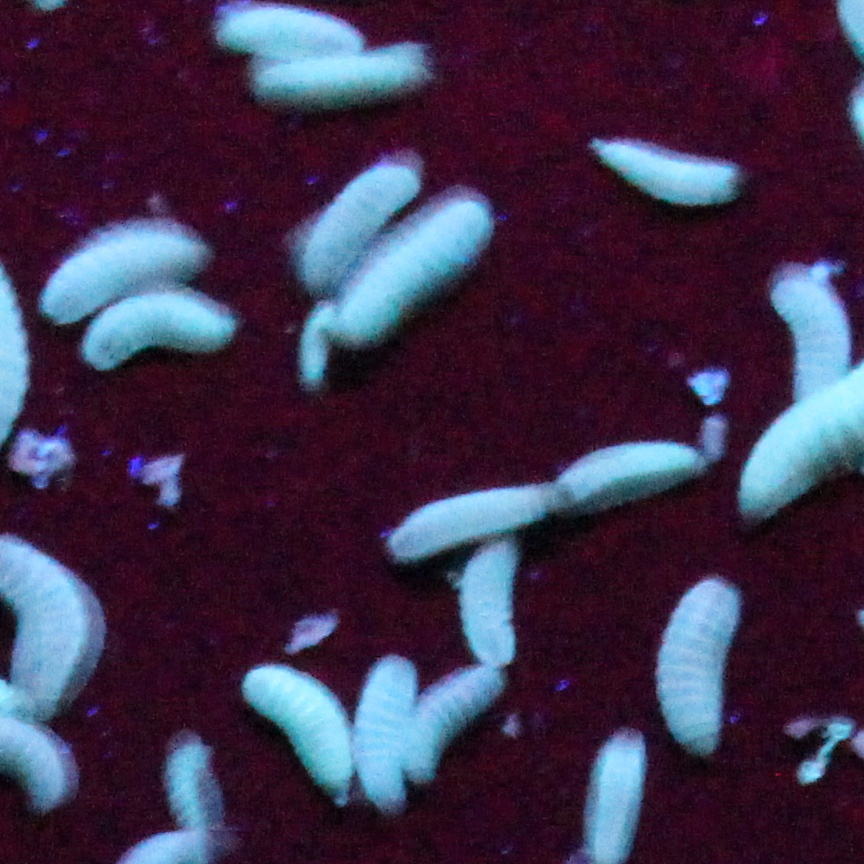larve: (335, 202, 494, 341), (292, 157, 417, 277), (239, 669, 352, 796), (660, 576, 737, 760), (44, 227, 207, 308), (381, 479, 546, 545), (596, 136, 738, 210), (84, 308, 244, 373), (769, 269, 847, 392), (358, 657, 415, 812), (256, 53, 426, 104), (419, 669, 497, 773), (554, 452, 703, 505), (203, 11, 362, 53), (163, 732, 222, 838), (467, 548, 518, 661), (298, 301, 340, 386)
